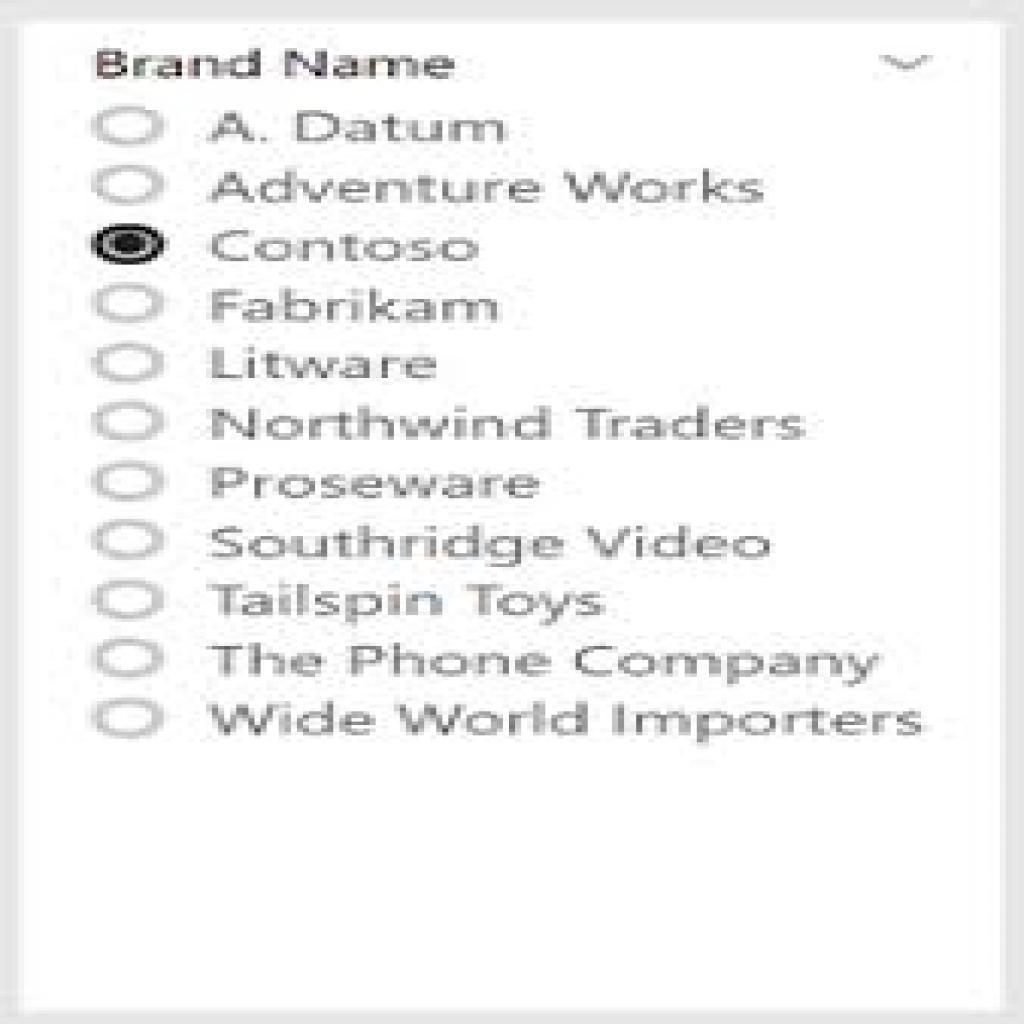radio: (89, 694, 167, 743), (90, 220, 167, 268), (92, 634, 168, 682), (91, 280, 169, 326), (90, 398, 167, 444), (91, 163, 170, 207), (90, 520, 168, 564), (92, 106, 168, 150), (92, 458, 167, 502), (91, 580, 166, 623), (90, 344, 170, 384)
